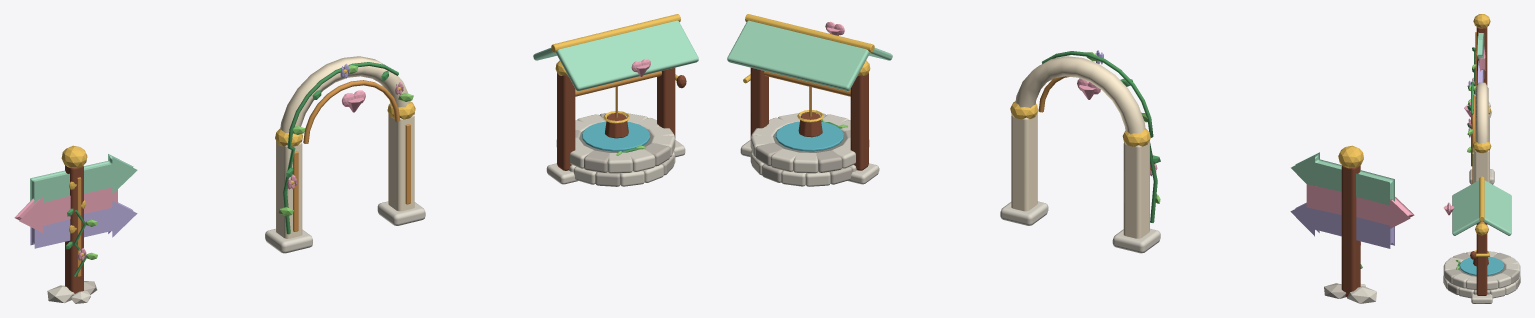
Rendered from thornvale-village-dressing.glb.
3 views of the same model, side by side, from view 1: azimuth 30°, elevation 25°; view 2: azimuth 150°, elevation 25°; view 3: azimuth 270°, elevation 25° (orthographic). The views are drawn at different scales.
Visible parts, largest first — view 1: GardenArch_Cream, StoneWell_Mint, StoneWell_Stone_Light, StoneWell_Wood_Cocoa, VillageWayfinder_Mint, VillageWayfinder_Blush, VillageWayfinder_Lavender, GardenArch_Wood_Honey, GardenArch_Stone_Light, StoneWell_Stone_Warm, VillageWayfinder_Wood_Cocoa, StoneWell_Water_Teal (+7 smaller); view 2: GardenArch_Cream, StoneWell_Mint, StoneWell_Stone_Light, StoneWell_Wood_Cocoa, VillageWayfinder_Mint, VillageWayfinder_Wood_Cocoa, VillageWayfinder_Blush, VillageWayfinder_Lavender, StoneWell_Stone_Warm, GardenArch_Stone_Light, StoneWell_Water_Teal, StoneWell_Antique_Gold (+4 smaller); view 3: StoneWell_Mint, StoneWell_Stone_Light, GardenArch_Cream, StoneWell_Wood_Cocoa, StoneWell_Stone_Warm, StoneWell_Water_Teal, StoneWell_Antique_Gold, VillageWayfinder_Wood_Cocoa, GardenArch_Wood_Honey, VillageWayfinder_Antique_Gold, GardenArch_Leaf_Dark, GardenArch_Antique_Gold (+10 smaller).
Part boxes in pixels (x1,y1,x2,y2): GardenArch_Cream: (276,56,414,238); StoneWell_Mint: (533,20,698,91); StoneWell_Stone_Light: (546,113,685,186); StoneWell_Wood_Cocoa: (557,68,686,170); VillageWayfinder_Mint: (30,154,137,203); VillageWayfinder_Blush: (14,187,117,260); VillageWayfinder_Lavender: (30,201,137,248); GardenArch_Wood_Honey: (293,80,410,231); GardenArch_Stone_Light: (265,201,425,253); StoneWell_Stone_Warm: (556,113,674,186); VillageWayfinder_Wood_Cocoa: (65,165,83,293); StoneWell_Water_Teal: (582,121,650,151); GardenArch_Cream: (1011,56,1149,238); StoneWell_Mint: (727,20,892,91); StoneWell_Stone_Light: (740,113,879,186); StoneWell_Wood_Cocoa: (750,68,868,170); VillageWayfinder_Mint: (1291,152,1394,205); VillageWayfinder_Wood_Cocoa: (1341,165,1360,296); VillageWayfinder_Blush: (1306,184,1414,244); VillageWayfinder_Lavender: (1290,202,1394,248); StoneWell_Stone_Warm: (755,113,869,184); GardenArch_Stone_Light: (1000,201,1160,253); StoneWell_Water_Teal: (775,121,843,151); StoneWell_Antique_Gold: (743,14,874,122); StoneWell_Mint: (1452,180,1511,235); StoneWell_Stone_Light: (1443,251,1520,303); GardenArch_Cream: (1474,82,1489,182); StoneWell_Wood_Cocoa: (1470,223,1488,295); StoneWell_Stone_Warm: (1444,252,1520,294); StoneWell_Water_Teal: (1459,256,1504,275); StoneWell_Antique_Gold: (1474,176,1489,256); VillageWayfinder_Wood_Cocoa: (1476,27,1487,85); GardenArch_Wood_Honey: (1471,95,1475,183); VillageWayfinder_Antique_Gold: (1473,14,1490,54); GardenArch_Leaf_Dark: (1467,81,1473,166); GardenArch_Antique_Gold: (1472,106,1491,153).
Bounding box in the file's own units: 12.76 × 3.28 × 1.97.
